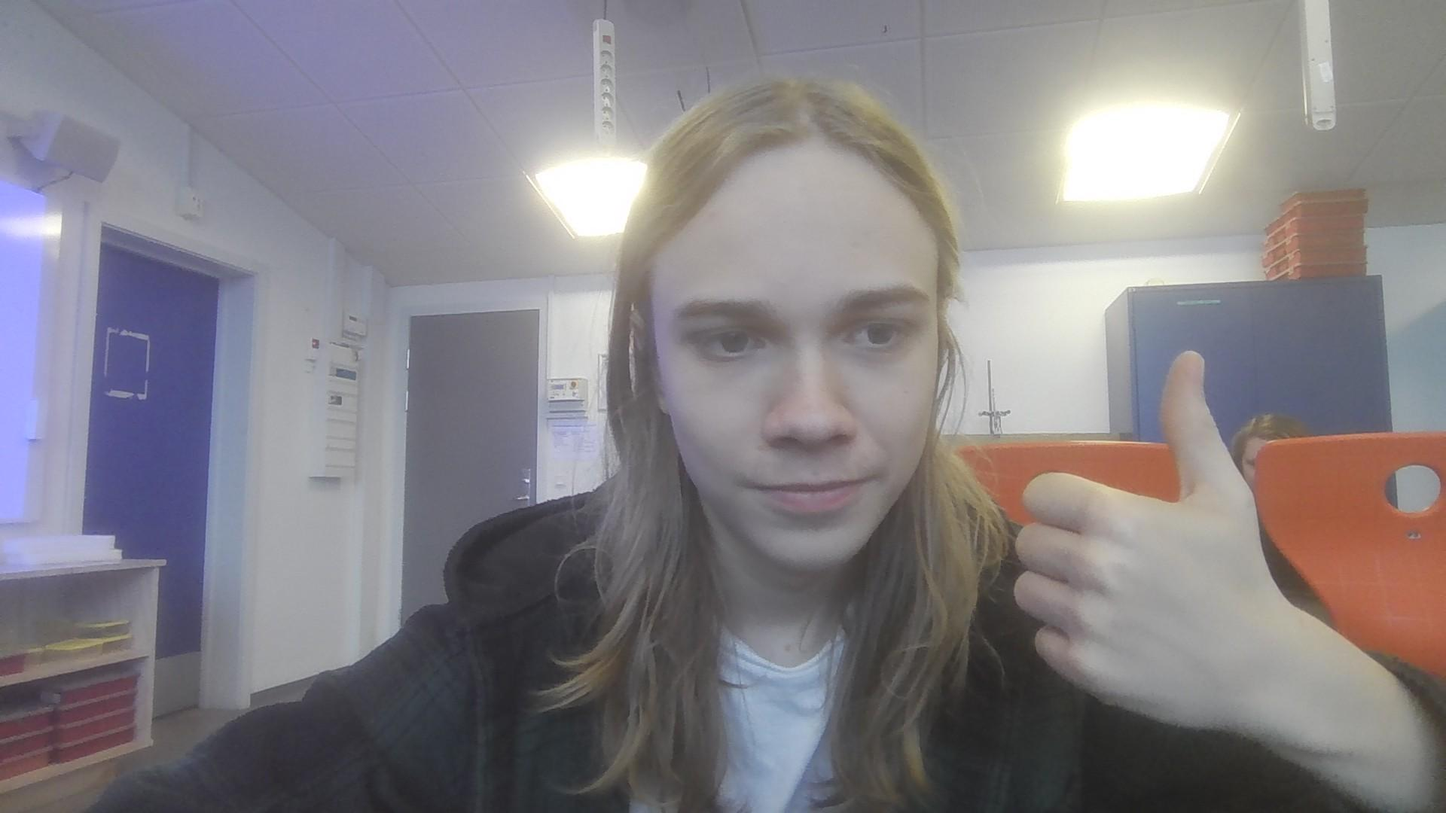thumbs up: (1013, 347, 1279, 739)
